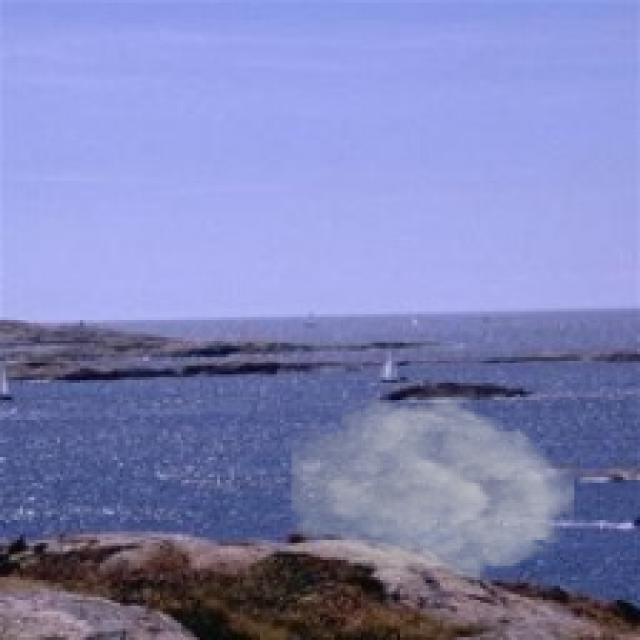smoke: (292, 388, 574, 592)
